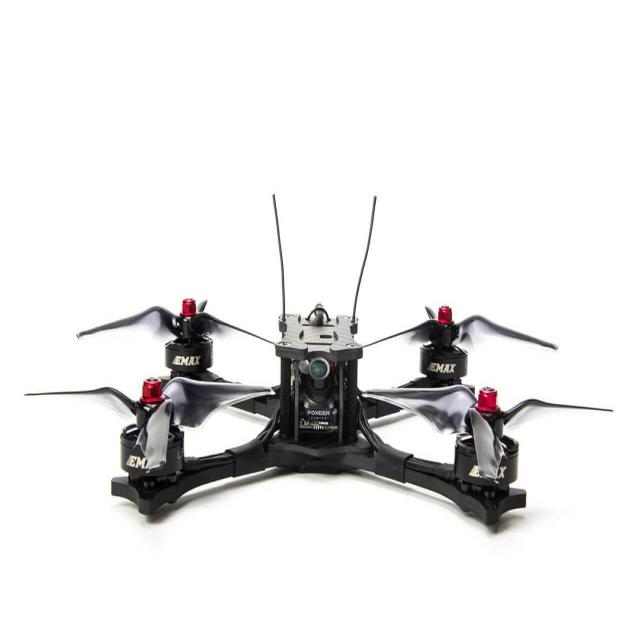drone: (33, 295, 618, 541)
